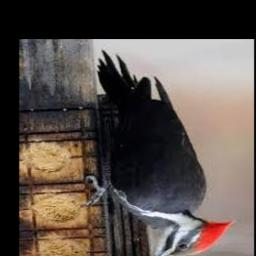Woodpecker: (83, 51, 235, 256)
